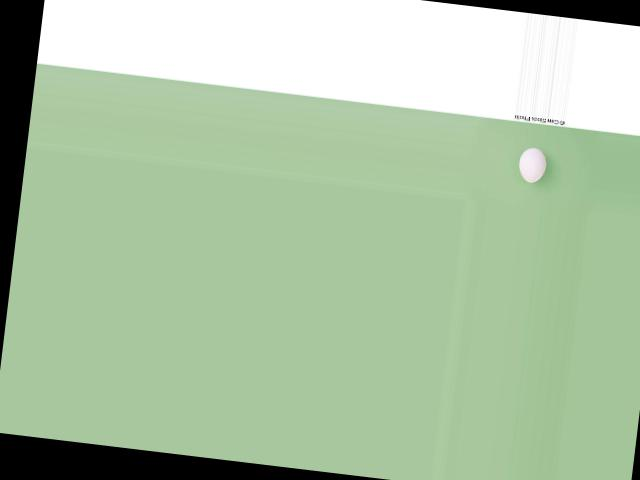egg: (517, 146, 547, 183)
